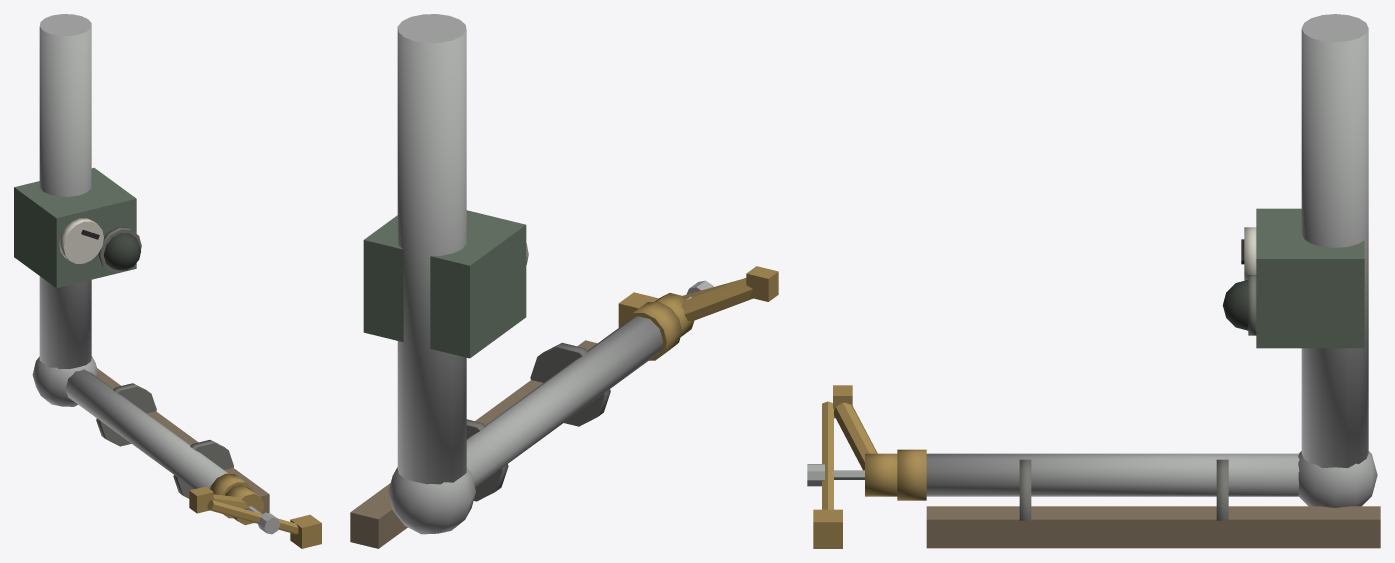
Rendered from sprinkler_auto_off.obj.
The picture shows the model from 3 angles, left to right: view 1: azimuth 30°, elevation 25°; view 2: azimuth 150°, elevation 25°; view 3: azimuth 270°, elevation 25°; orthographic projection. The views are drawn at different scales.
Visible parts, largest first — view 1: pipe4, timer, riser, elbow, timer_dial, timer_lamp, tie0.16, stake, tie0.36, head_weight, head_arm, head_body (+3 smaller); view 2: pipe4, timer, riser, elbow, stake, tie0.36, head_nozzle, head_bearing, head_spoon, tie0.16, head_weight, head_body; view 3: pipe4, stake, riser, timer, elbow, head_bearing, head_body, head_nozzle, head_arm, head_weight, timer_lamp, tie0.16 (+1 smaller).
Boxes of the visible parts, box(x1,y1,x2,y2) form: pipe4: box(39, 14, 91, 369); timer: box(14, 167, 136, 288); riser: box(65, 369, 228, 489); elbow: box(32, 356, 98, 406); timer_dial: box(59, 218, 103, 263); timer_lamp: box(103, 233, 140, 270); tie0.16: box(96, 383, 156, 446); stake: box(97, 368, 269, 514); tie0.36: box(173, 440, 233, 498); head_weight: box(290, 514, 321, 548); head_arm: box(207, 500, 298, 534); head_body: box(225, 484, 264, 525); pipe4: box(397, 14, 466, 484); timer: box(363, 210, 526, 358); riser: box(466, 316, 663, 487); elbow: box(388, 467, 475, 534); stake: box(350, 340, 597, 548); tie0.36: box(530, 342, 610, 426); head_nozzle: box(681, 278, 753, 321); head_bearing: box(622, 301, 681, 360); head_spoon: box(746, 266, 778, 301); tie0.16: box(466, 419, 508, 501); head_weight: box(618, 292, 658, 327); head_body: box(655, 293, 694, 336); pipe4: box(1301, 14, 1368, 468); stake: box(926, 506, 1380, 548); riser: box(926, 453, 1299, 496); timer: box(1256, 208, 1364, 348); elbow: box(1298, 451, 1377, 507); head_bearing: box(897, 449, 926, 500); head_body: box(865, 453, 897, 496); head_nozzle: box(834, 402, 877, 470); head_arm: box(822, 401, 833, 509); head_weight: box(813, 509, 842, 548); timer_lamp: box(1222, 280, 1248, 330); tie0.16: box(1216, 459, 1228, 520).
Size of the model in its own units: 0.1751 by 0.5569 by 0.581.
Materials: 8 (8 with a texture image).
